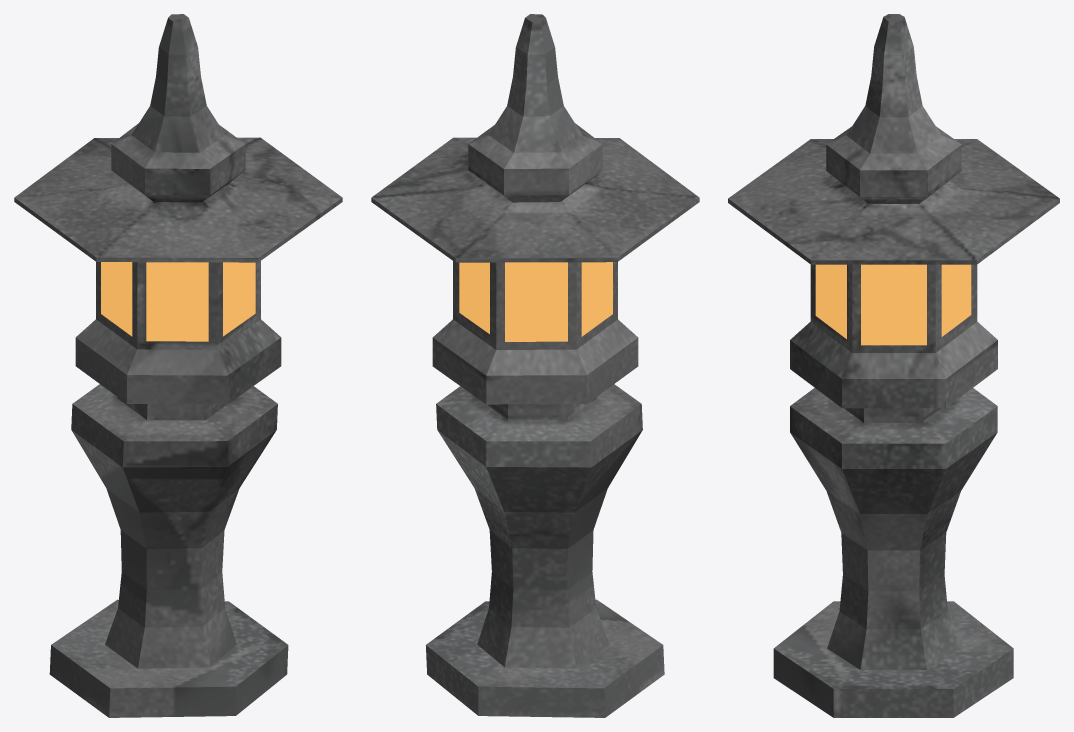
Rendered from Pagoda01.glb.
The picture shows the model from 3 angles, left to right: view 1: azimuth 30°, elevation 25°; view 2: azimuth 150°, elevation 25°; view 3: azimuth 270°, elevation 25°; orthographic projection.
Parts seen in each view (by area): view 1: Zen Pagoda 01; view 2: Zen Pagoda 01; view 3: Zen Pagoda 01.
Part boxes in pixels (box(x1,y1,x2,y2)): Zen Pagoda 01: box(14, 14, 342, 717); Zen Pagoda 01: box(371, 14, 699, 717); Zen Pagoda 01: box(728, 14, 1059, 717).
Size of what is drawn, in the model's own units: 0.8597 by 2.18 by 0.9926.
Materials: 2 (1 with a texture image).
